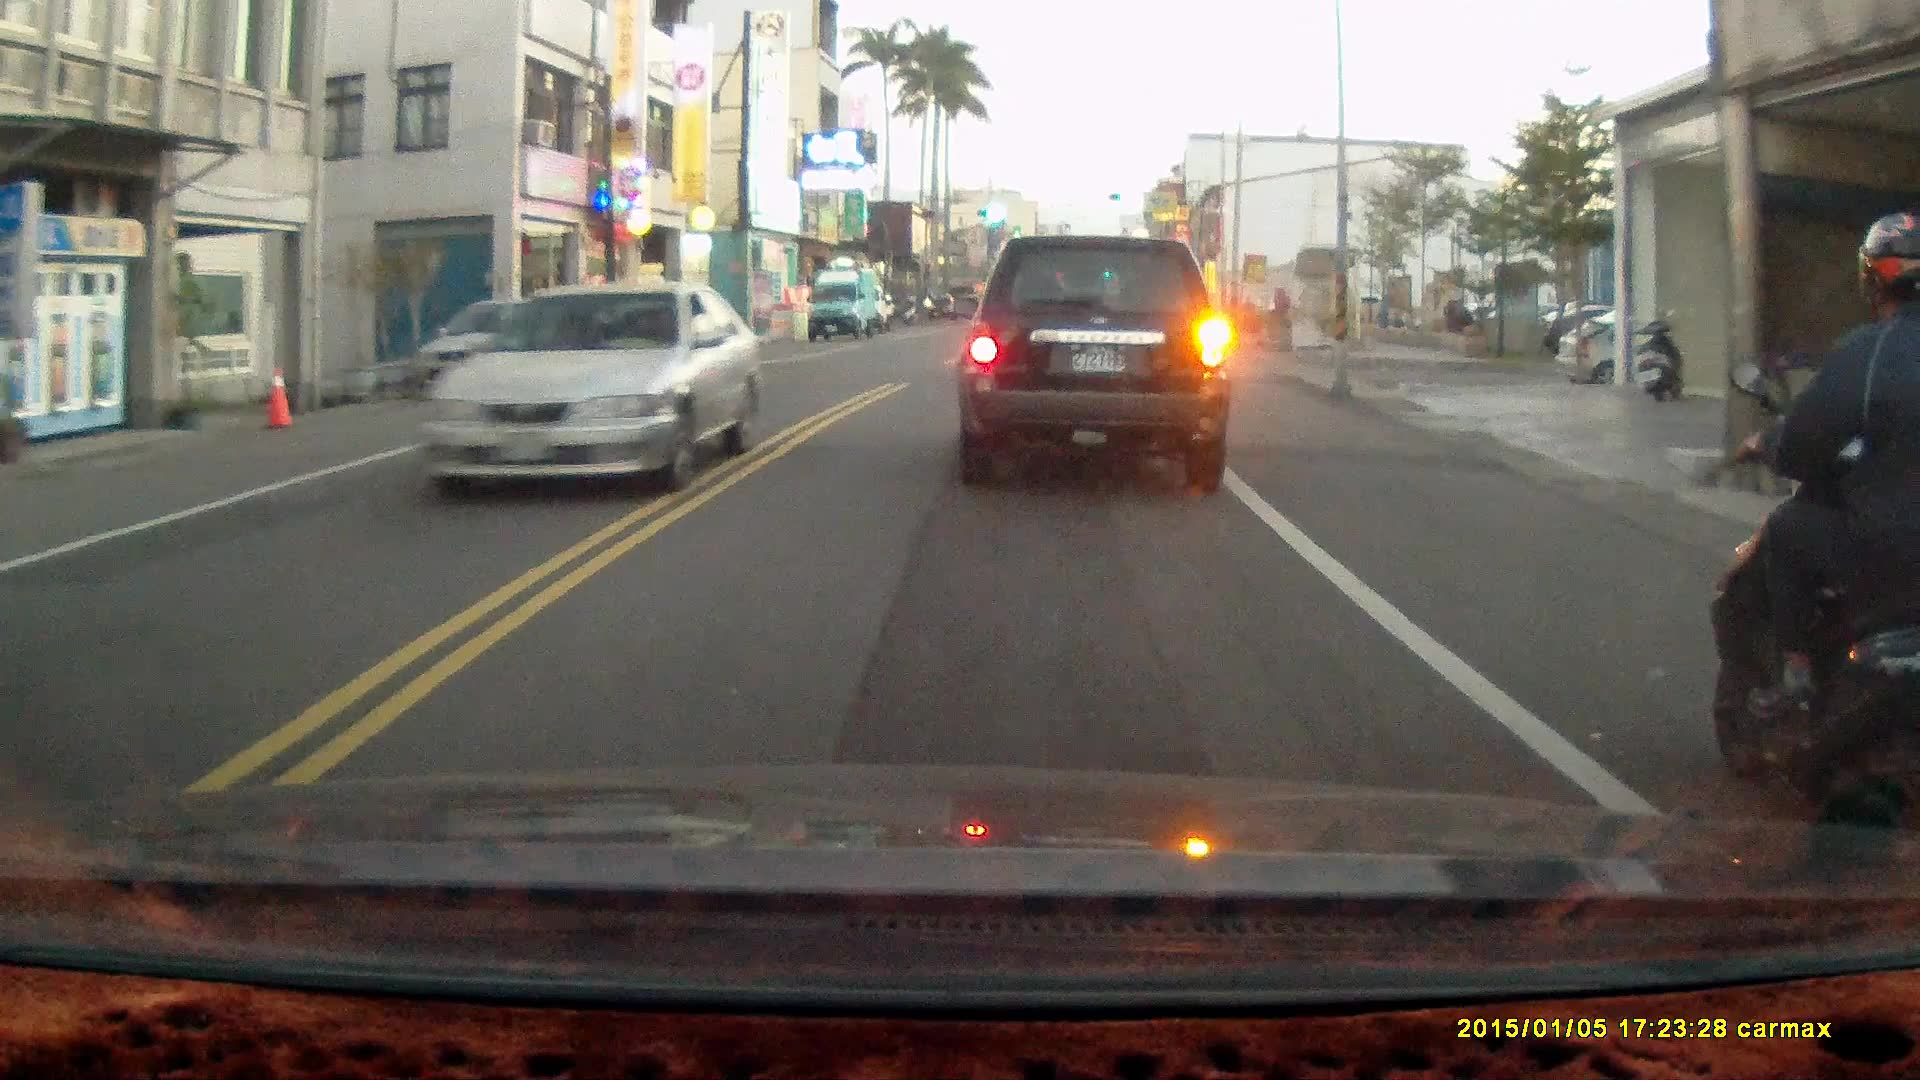rider: (1701, 212, 1919, 882)
vehicle: (958, 234, 1238, 499), (420, 284, 759, 497), (1552, 321, 1759, 396), (809, 269, 885, 344)
